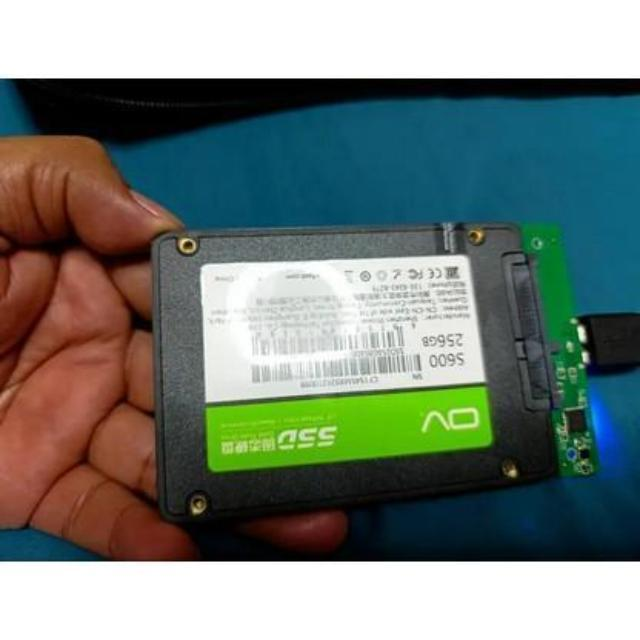DISK: (142, 218, 570, 512)
